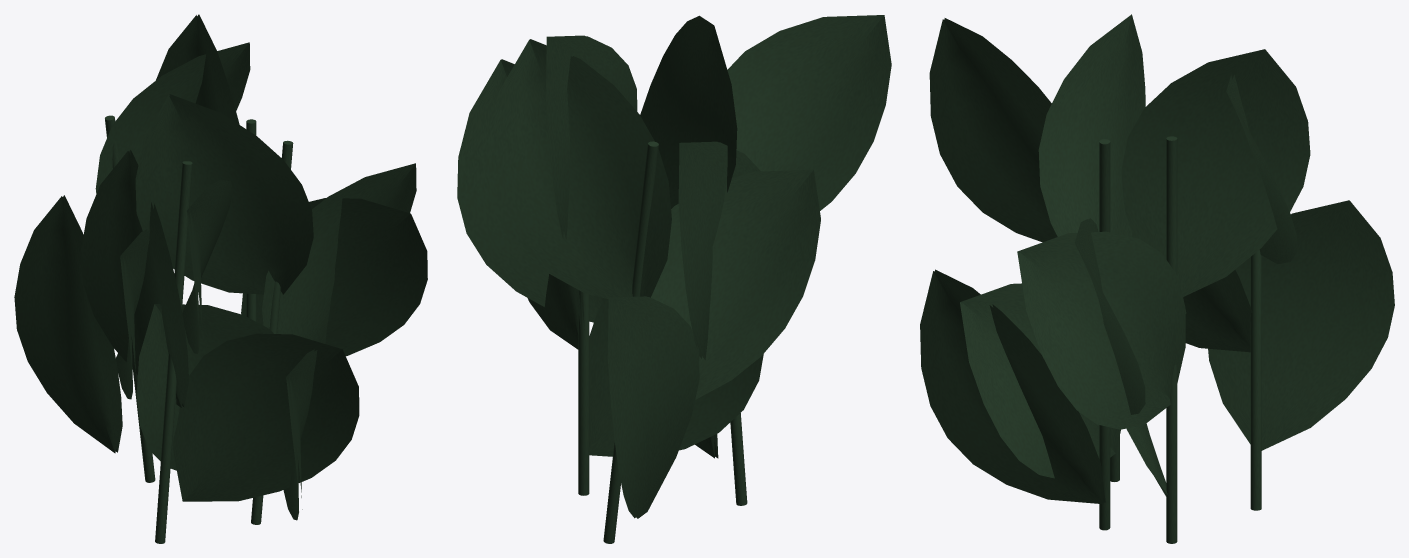
The model's file is java_fern.glb.
3 views of the same model, side by side, from view 1: azimuth 30°, elevation 25°; view 2: azimuth 150°, elevation 25°; view 3: azimuth 270°, elevation 25° (orthographic). The views are drawn at different scales.
Visible parts, largest first — view 1: moving_stem_1, moving_stem_3, moving_stem_2, moving_stem_0; view 2: moving_stem_2, moving_stem_1, moving_stem_3, moving_stem_0; view 3: moving_stem_0, moving_stem_3, moving_stem_2, moving_stem_1.
Part boxes in pixels (x1,y1,x2,y2): moving_stem_1: [80, 150, 359, 543]; moving_stem_3: [135, 94, 416, 524]; moving_stem_2: [14, 42, 250, 482]; moving_stem_0: [136, 14, 427, 470]; moving_stem_2: [486, 39, 820, 543]; moving_stem_1: [678, 15, 891, 505]; moving_stem_3: [457, 15, 737, 322]; moving_stem_0: [527, 35, 763, 495]; moving_stem_0: [1017, 49, 1310, 543]; moving_stem_3: [920, 14, 1145, 530]; moving_stem_2: [1183, 75, 1394, 510]; moving_stem_1: [929, 18, 1186, 481].
Size of the model in its own units: 0.9042 by 1.27 by 1.12.
1 material, 1 textured.
